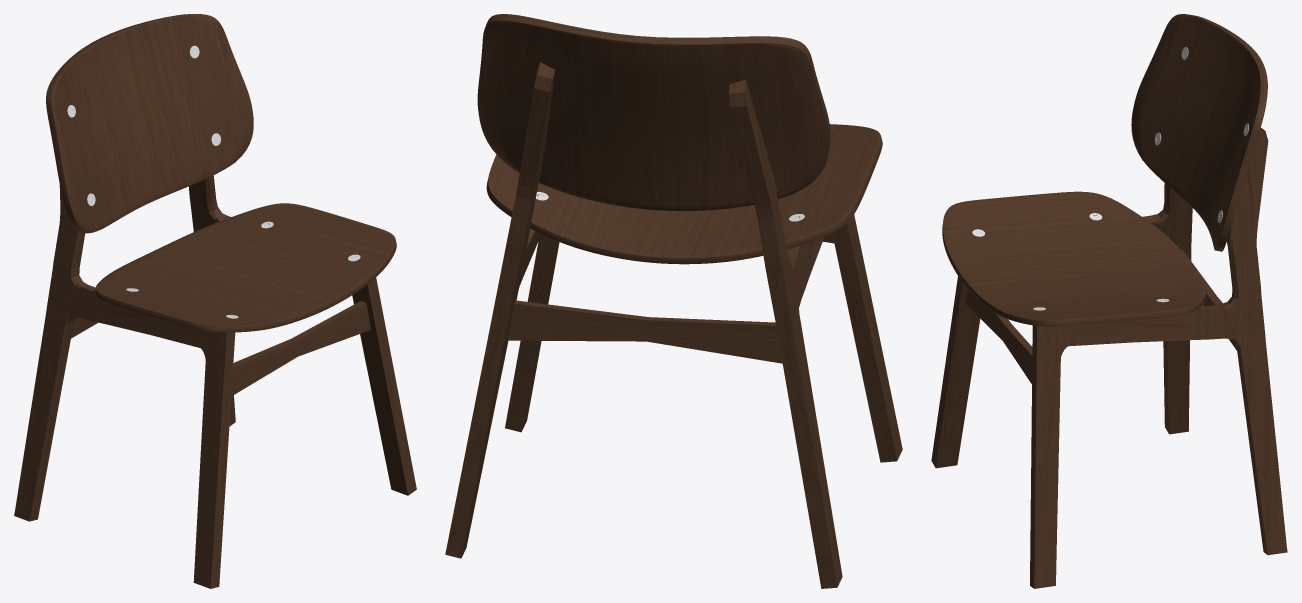
The model's file is brown_wooden_chair.gltf.
The picture shows the model from 3 angles, left to right: view 1: azimuth 30°, elevation 25°; view 2: azimuth 150°, elevation 25°; view 3: azimuth 270°, elevation 25°; orthographic projection. The views are drawn at different scales.
Parts seen in each view (by area): view 1: upper_seat, lower_seat, arm, front_slat; view 2: upper_seat, arm, lower_seat, back-slat; view 3: arm, lower_seat, upper_seat, front_slat.
Part boxes in pixels (x1,y1,x2,y2): upper_seat: (46, 14, 253, 233); lower_seat: (95, 203, 396, 332); arm: (14, 175, 416, 588); front_slat: (231, 301, 370, 396); upper_seat: (477, 14, 830, 210); arm: (445, 62, 902, 588); lower_seat: (486, 124, 882, 264); back-slat: (508, 300, 782, 363); arm: (931, 127, 1287, 588); lower_seat: (942, 191, 1206, 326); upper_seat: (1131, 14, 1267, 251); front_slat: (966, 290, 1032, 383).
Size of the model in its own units: 0.6592 by 0.8165 by 0.6033.
Materials: 2 (1 with a texture image).
